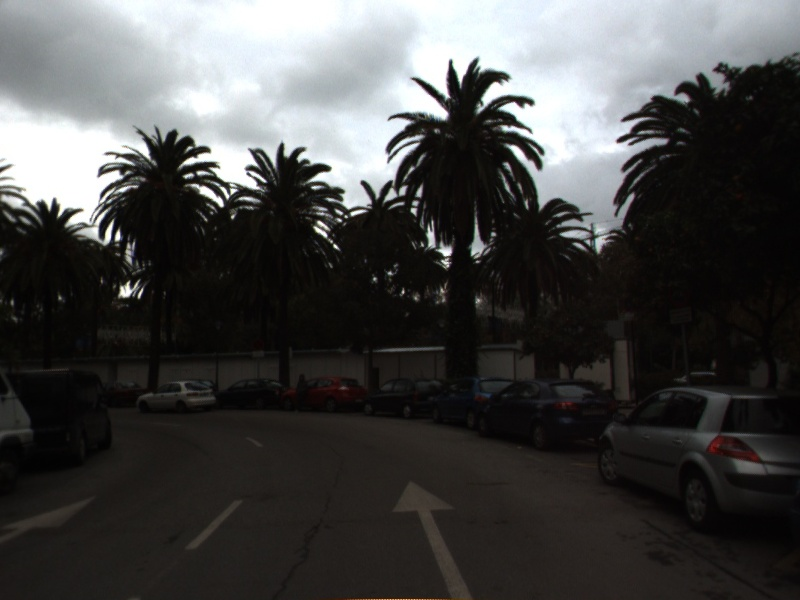STRAIGHT: (389, 479, 476, 600), (1, 493, 99, 545)
